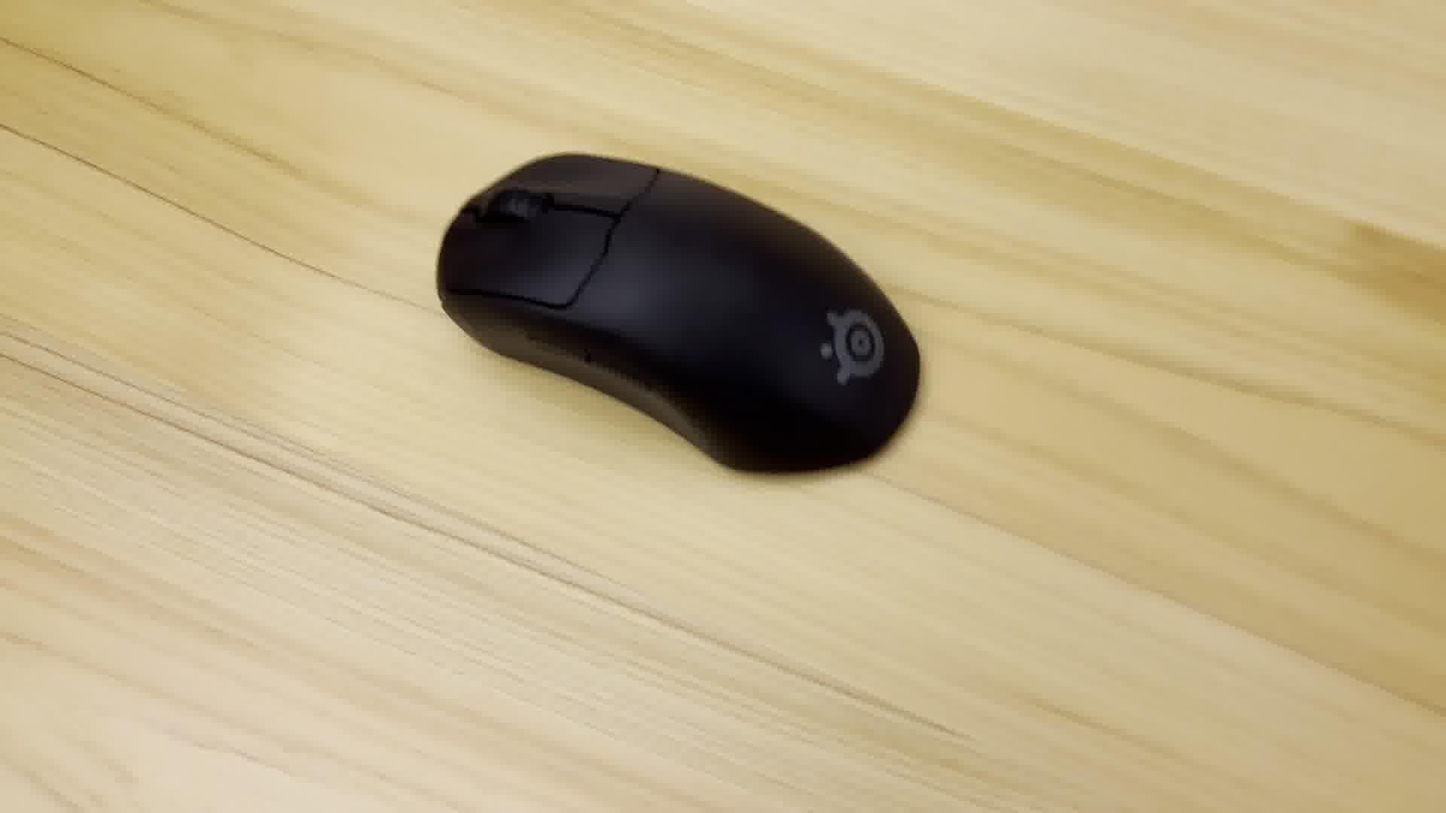mouse: (431, 137, 934, 485)
